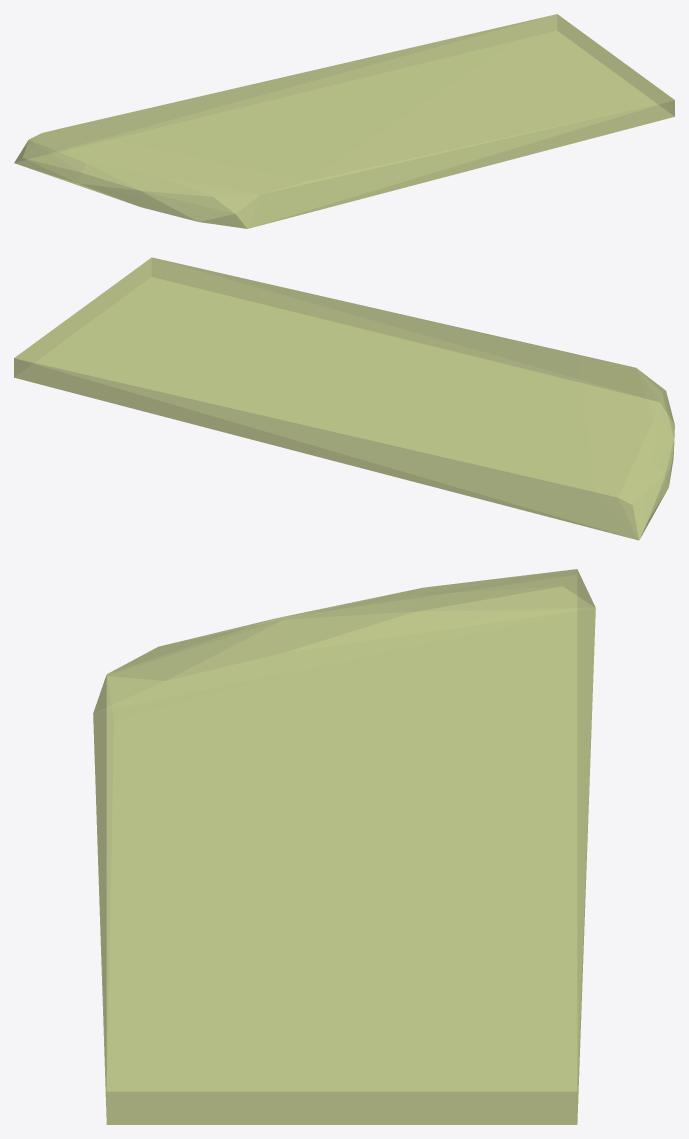
3 views of the same model, one above another, from view 1: azimuth 30°, elevation 25°; view 2: azimuth 150°, elevation 25°; view 3: azimuth 270°, elevation 25° (orthographic). The views are drawn at different scales.
Visible parts, largest first — view 1: Shape_IndexedFaceSet.002_Shape_IndexedFaceSet.4459; view 2: Shape_IndexedFaceSet.002_Shape_IndexedFaceSet.4459; view 3: Shape_IndexedFaceSet.002_Shape_IndexedFaceSet.4459.
Part boxes in pixels (x1,y1,x2,y2): Shape_IndexedFaceSet.002_Shape_IndexedFaceSet.4459: (14, 14, 674, 228); Shape_IndexedFaceSet.002_Shape_IndexedFaceSet.4459: (14, 257, 674, 540); Shape_IndexedFaceSet.002_Shape_IndexedFaceSet.4459: (93, 569, 595, 1124).
Bounding box in the file's own units: 0.4211 × 0.0208 × 0.1702.
